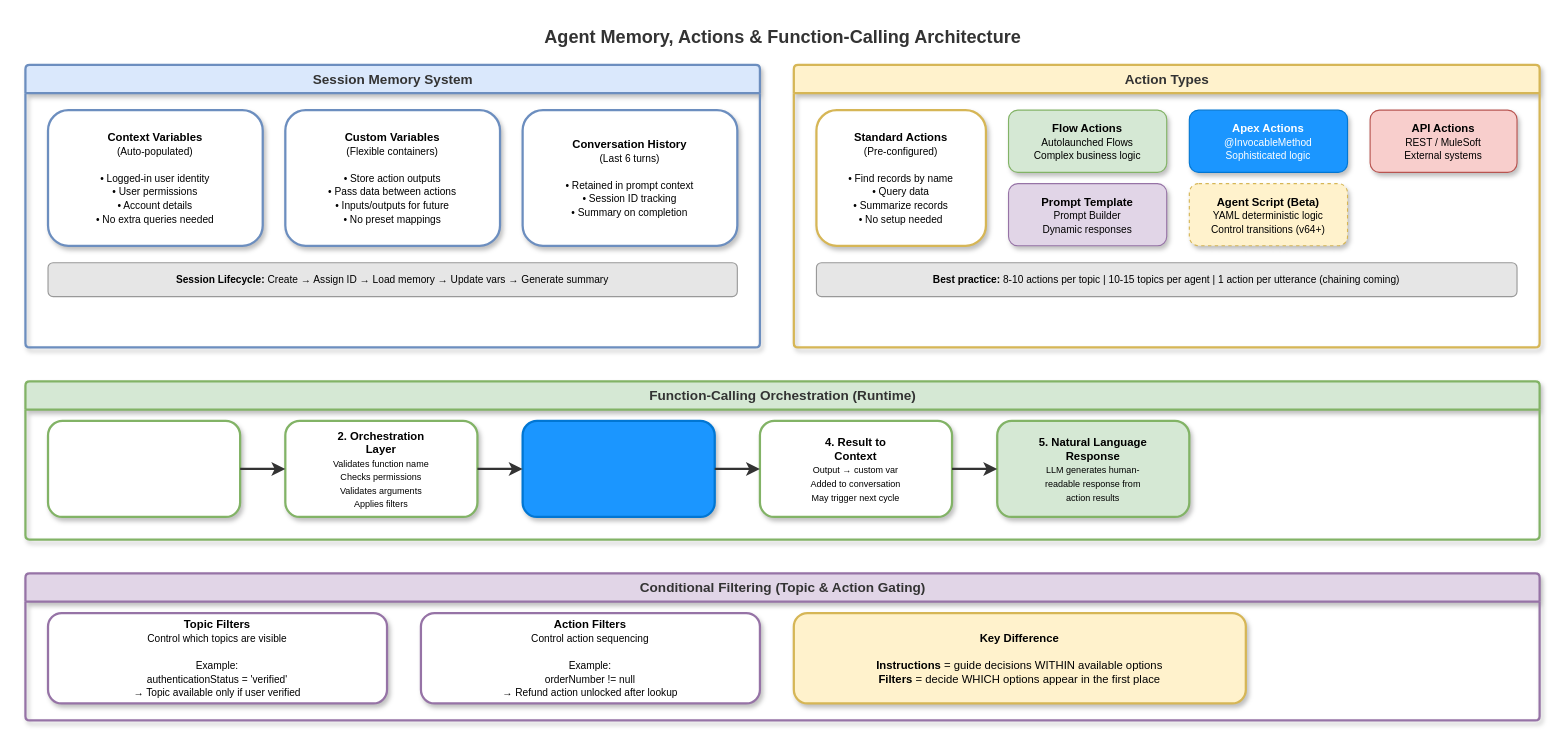
The diagram is 1566 pixels wide and 748 high, and some of its shapes have lost their labels. The centre of each missing label's shape, as x and y in pixels:
1. LLM Analyzes Intent Creates structured function call with name + arguments: the point at 144,470
3. Action Execution Apex/Flow/API invoked with proper security context: the point at 619,470
